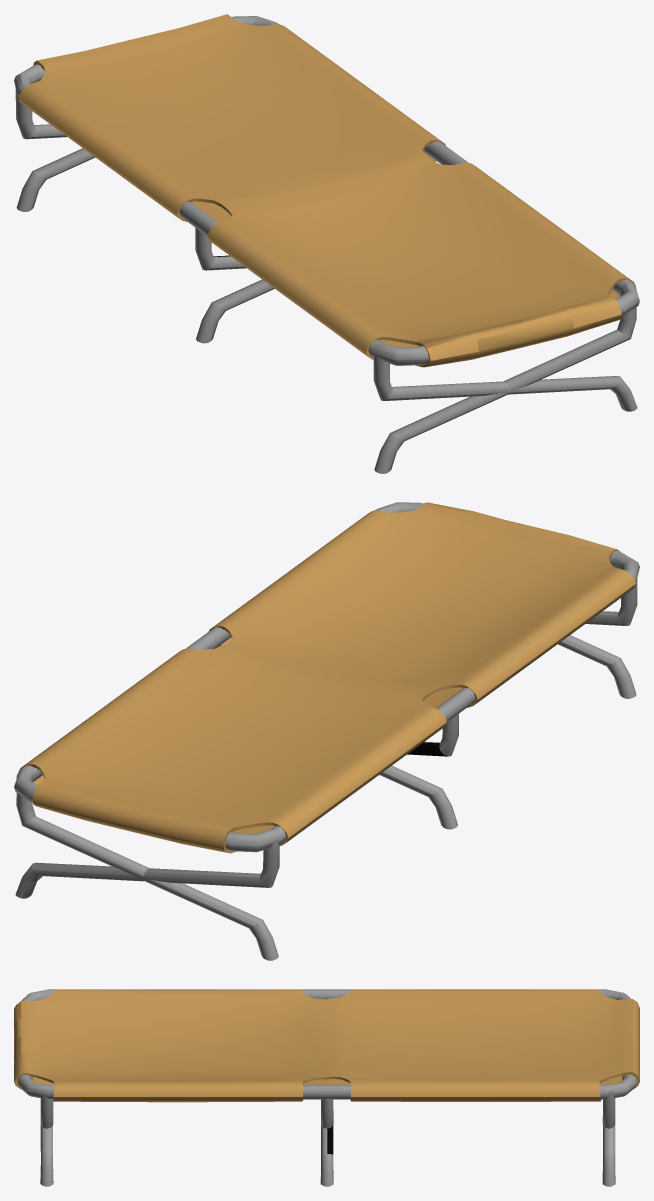
The model's file is camperBed.fbx.
The picture shows the model from 3 angles, top to bottom: view 1: azimuth 30°, elevation 25°; view 2: azimuth 150°, elevation 25°; view 3: azimuth 270°, elevation 25°; orthographic projection. The views are drawn at different scales.
Visible parts, largest first — view 1: camperBed; view 2: camperBed; view 3: camperBed.
Boxes of the visible parts, x1,y1,x2,y2 form: camperBed: (14,14,639,473); camperBed: (14,502,639,960); camperBed: (14,989,639,1186).
Bounding box in the file's own units: 94.78 × 44.11 × 242.
